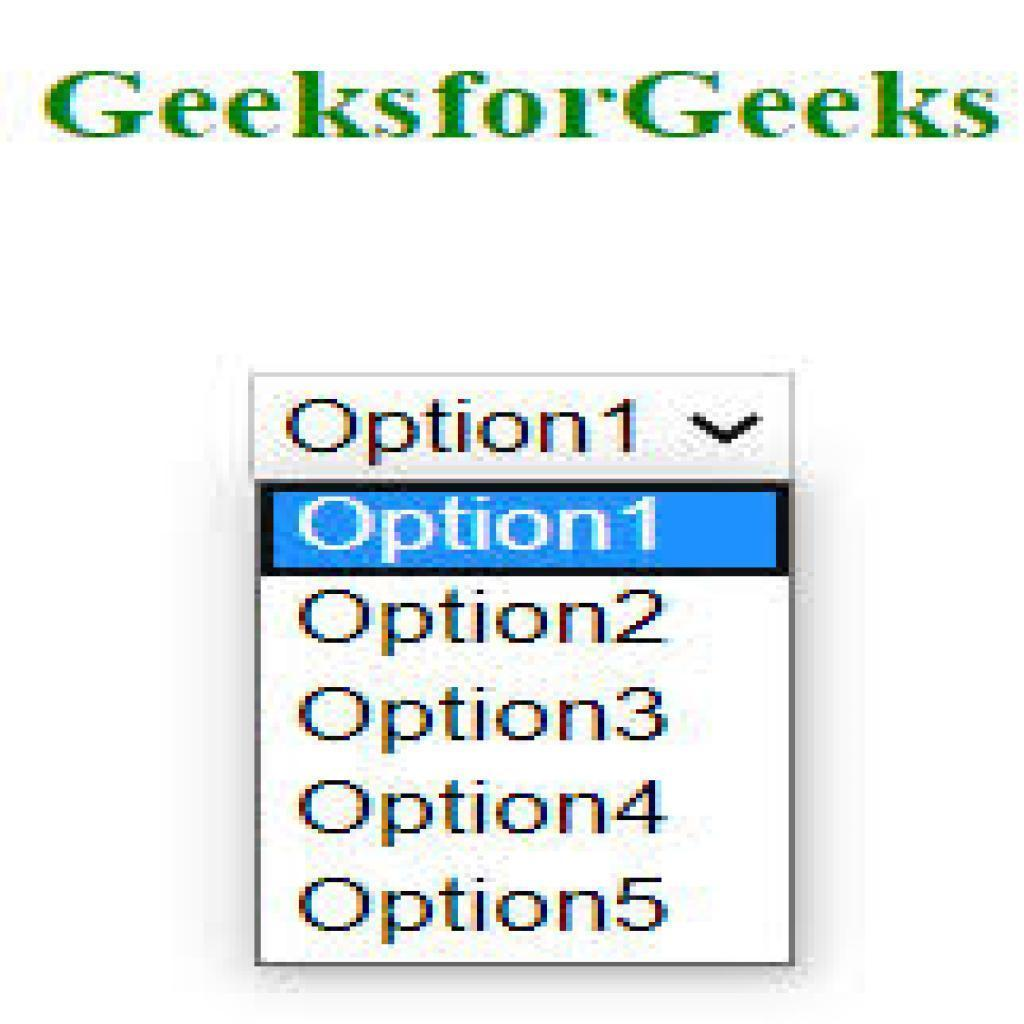dropdown: (250, 366, 787, 483)
